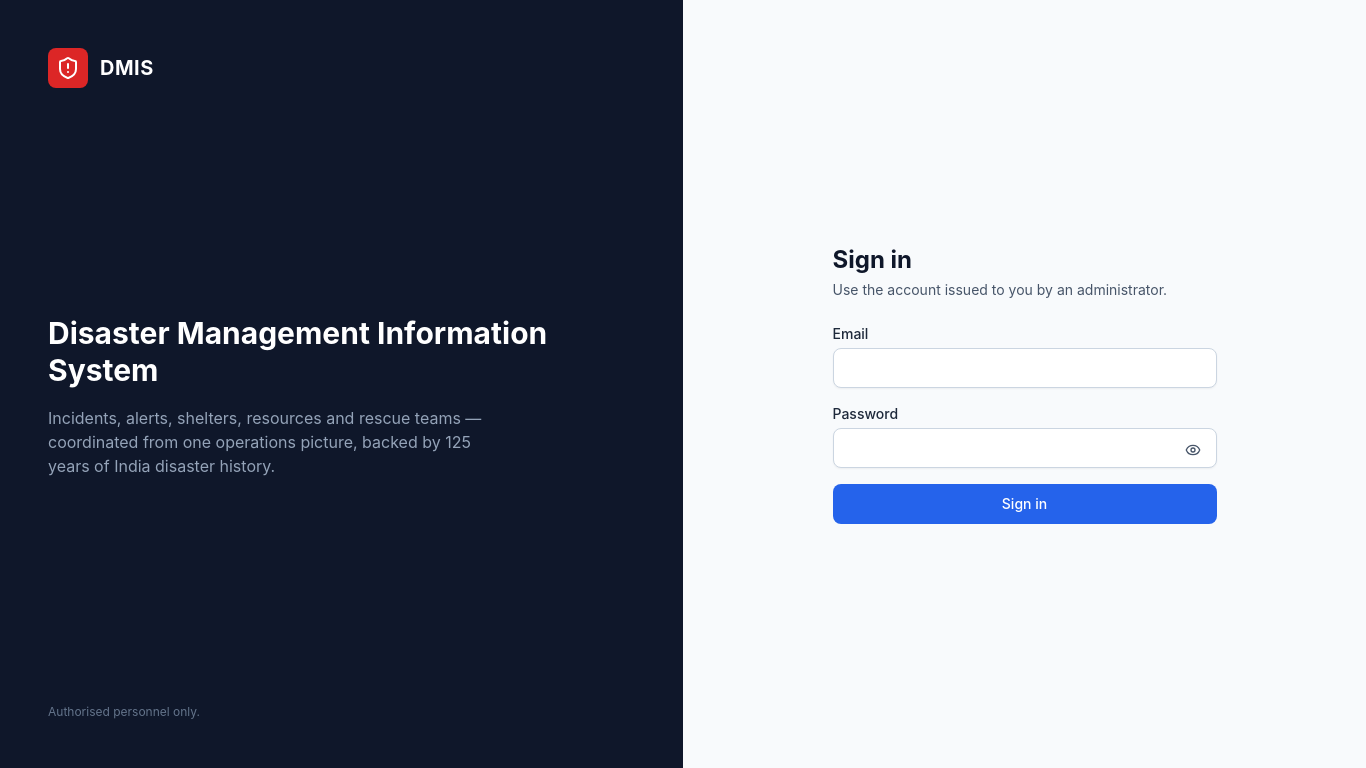
Test: authentication flow › shows the server's message on bad credentials and stays on the login page
Step 1. Type "admin@dmis.test" into the field labelled "Email" → (1024, 368), box x1=832 y1=348 x2=1216 y2=388
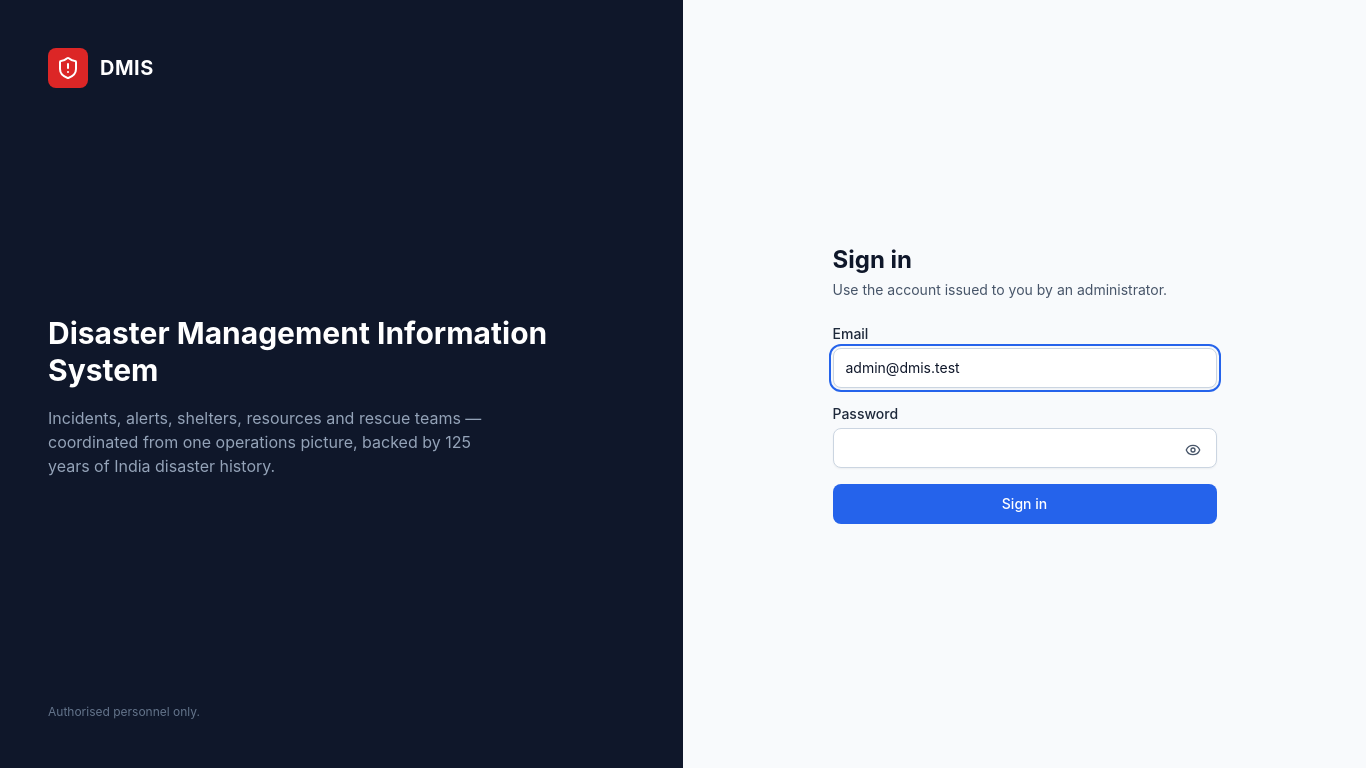
Step 2. Type "wrongpass1" into the password field labelled "Password" → (1024, 448), box x1=832 y1=428 x2=1216 y2=468
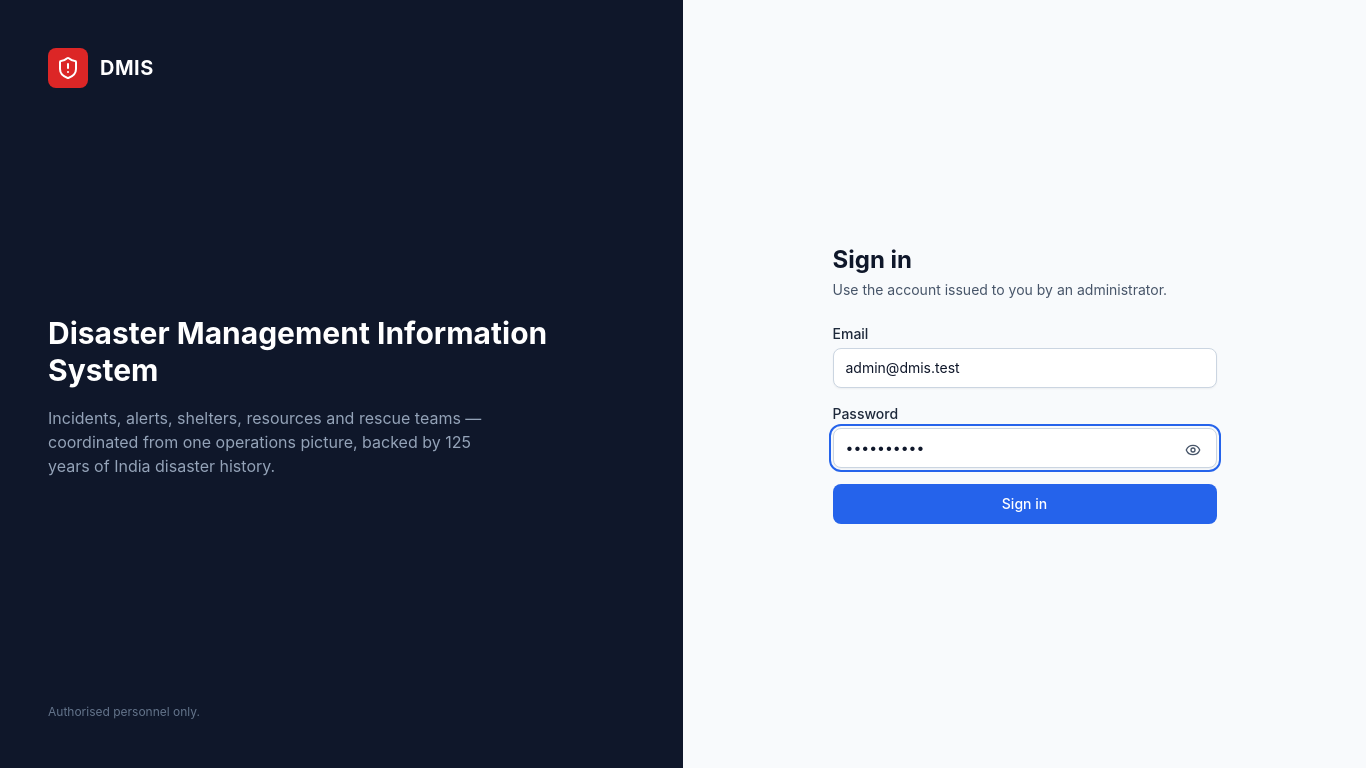
Step 3. Click the button "Sign in" → click(1024, 504), box x1=832 y1=484 x2=1216 y2=524
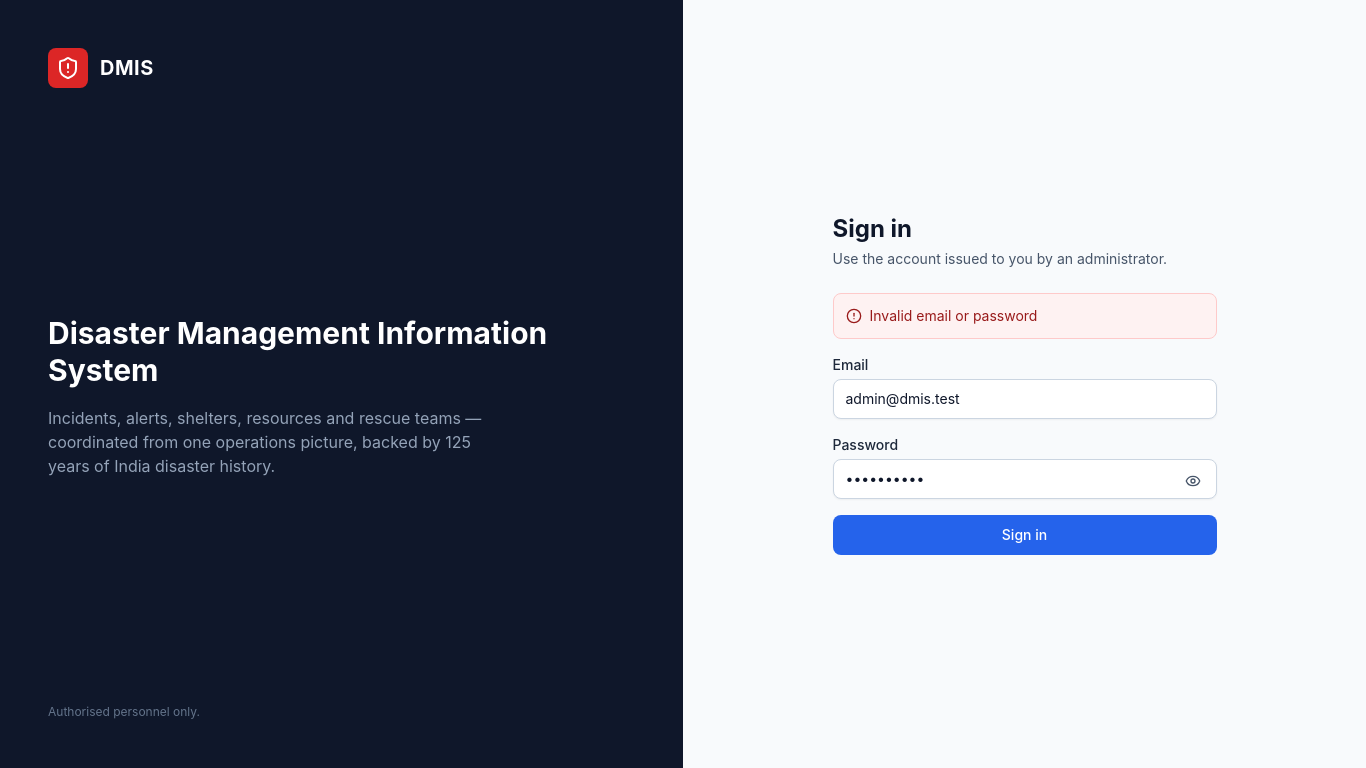
Result: the message reads "Invalid email or password" at x1=870 y1=307 x2=1038 y2=324
